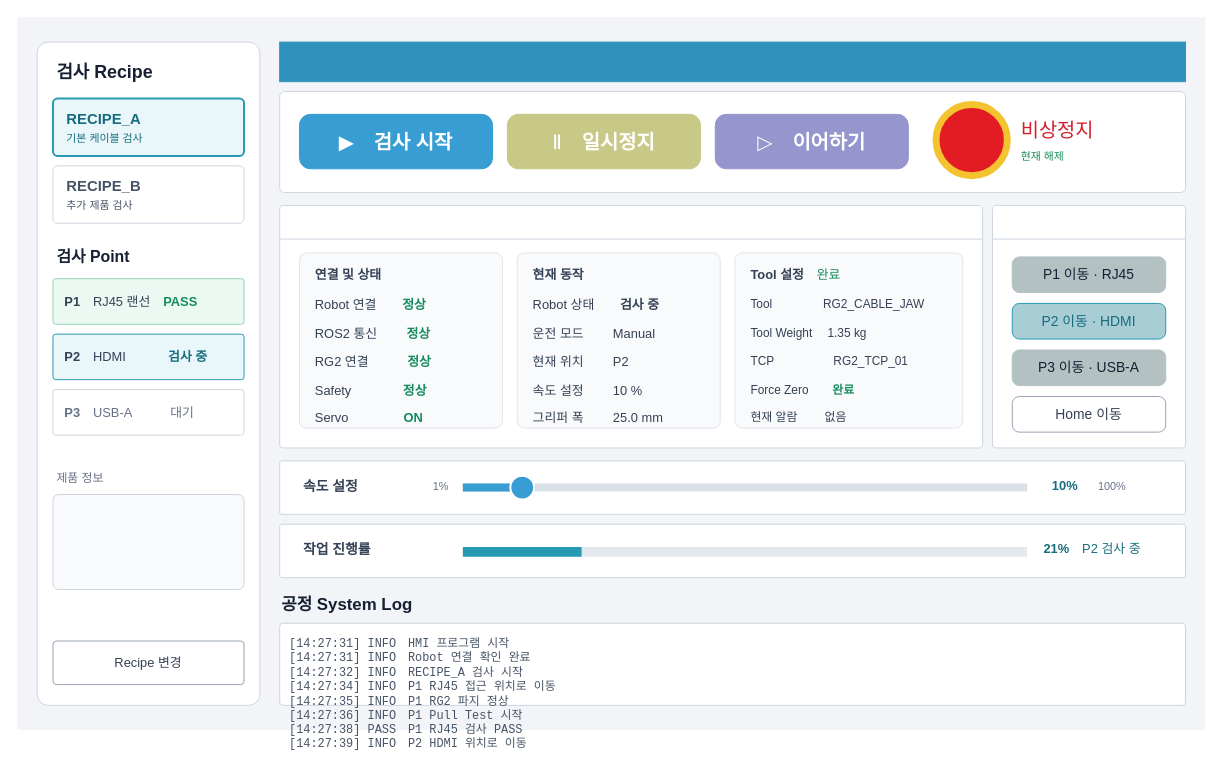
This 1222x768 diagram has some shape labels left out. Each missing label, with the box of its shape:
Robot Information: (279, 204, 983, 448)
STOP: (932, 100, 1010, 179)
로봇팔 이동 명령: (991, 204, 1186, 448)
제품 ID PANEL-A01 검사 순서 P1 → P2 → P3 전체 Point 3: (52, 494, 244, 590)
케이블 체결 검사 HMI: (279, 41, 1186, 82)
